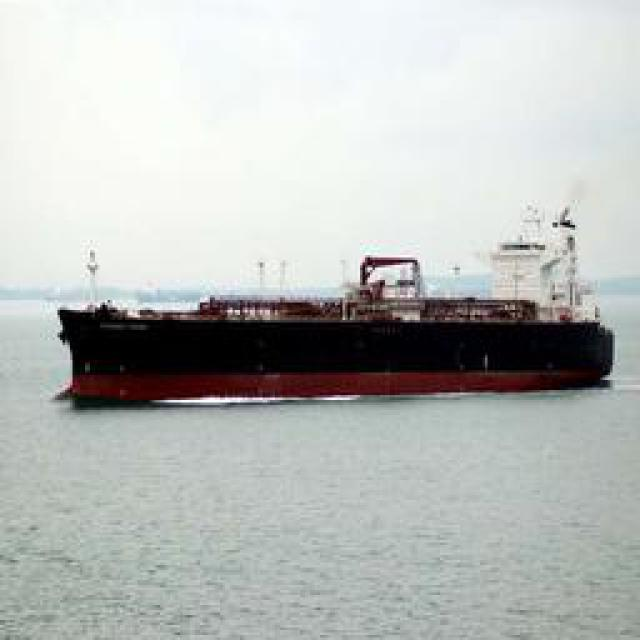Ship: (50, 196, 610, 404)
